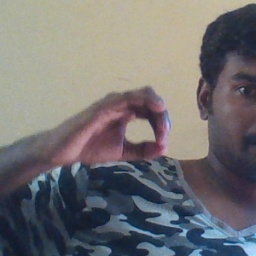O: (42, 84, 174, 166)
